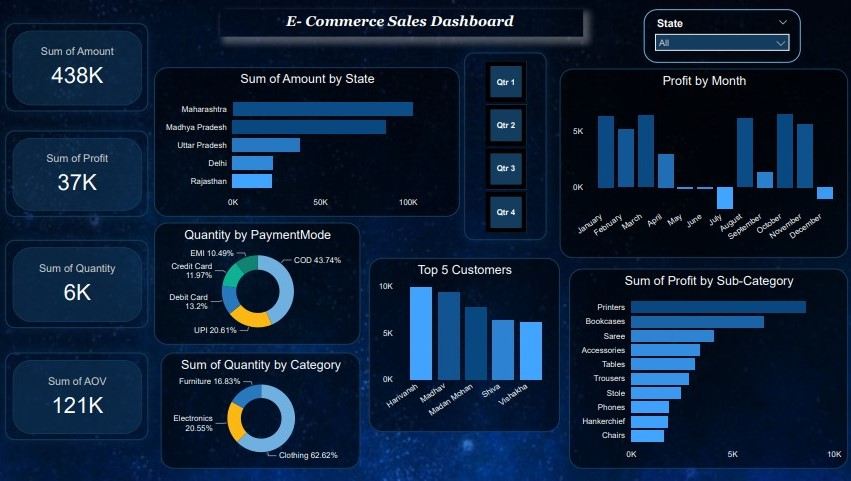

The page's visual inventory and layout, read from the dashboard file:
{"tool":"powerbi","page":{"name":"Sales_Dashboard","canvas":[1280,720],"ordinal":0},"visuals":[{"type":"textbox","box":[333.1,14.2,544.3,41.1],"z":0},{"type":"columnChart","title":"Profit by Month","fields":{"Category":["Orders.Order Date.Variation.Date Hierarchy.Month"],"Y":["Details.Profit"]},"box":[841.9,103.5,432.3,283.5],"z":1000},{"type":"barChart","fields":{"Category":["Details.Sub-Category"],"Y":["Details.Profit"]},"box":[856.1,402.5,418.1,300.5],"z":2000},{"type":"donutChart","fields":{"Category":["Details.Category"],"Y":["Details.Quantity"]},"box":[243.8,528.7,299.1,174.3],"z":3000},{"type":"donutChart","title":"Quantity by PaymentMode","fields":{"Y":["Details.Quantity"],"Category":["Details.PaymentMode"]},"box":[233.9,334.5,309,182.8],"z":4000},{"type":"cardVisual","fields":{"Data":["Details.Amount"]},"box":[11.3,35.4,214,131.8],"z":5000},{"type":"cardVisual","fields":{"Data":["Details.Quantity"]},"box":[11.3,360,214,131.8],"z":6000},{"type":"cardVisual","fields":{"Data":["Details.Profit"]},"box":[11.3,195.6,214,129],"z":7000},{"type":"cardVisual","fields":{"Data":["Details.AvgOrderValue"]},"box":[11.3,528.7,214,131.8],"z":8000},{"type":"barChart","fields":{"Category":["Orders.State"],"Y":["Details.Amount"]},"box":[233.9,100.6,457.8,223.9],"z":9000},{"type":"columnChart","title":"Top 5 Customers","fields":{"Category":["Orders.CustomerName"],"Y":["Details.Amount"]},"box":[555.6,386.9,286.3,260.8],"z":10000},{"type":"slicer","fields":{"Values":["Orders.Order Date.Variation.Date Hierarchy.Quarter"]},"box":[698.7,79.4,123.3,280.6],"z":11000},{"type":"slicer","fields":{"Values":["Orders.State"]},"box":[968,14.2,235.3,79.4],"z":12000}]}

Visuals, with their boxes in screenshot pixels (x1, y1, x2, y2), scaled from the page's 1280x720 canvas onto the 851x481 screenshot:
textbox: 221, 9, 583, 37
"Profit by Month" columnChart: 560, 69, 847, 259
barChart - Details.Sub-Category x Details.Profit: 569, 269, 847, 470
donutChart - Details.Category x Details.Quantity: 162, 353, 361, 470
"Quantity by PaymentMode" donutChart: 156, 223, 361, 346
cardVisual - Details.Amount: 8, 24, 150, 112
cardVisual - Details.Quantity: 8, 240, 150, 329
cardVisual - Details.Profit: 8, 131, 150, 217
cardVisual - Details.AvgOrderValue: 8, 353, 150, 441
barChart - Orders.State x Details.Amount: 156, 67, 460, 217
"Top 5 Customers" columnChart: 369, 258, 560, 433
slicer - Orders.Order Date.Variation.Date Hierarchy.Quarter: 465, 53, 547, 240
slicer - Orders.State: 644, 9, 800, 63
